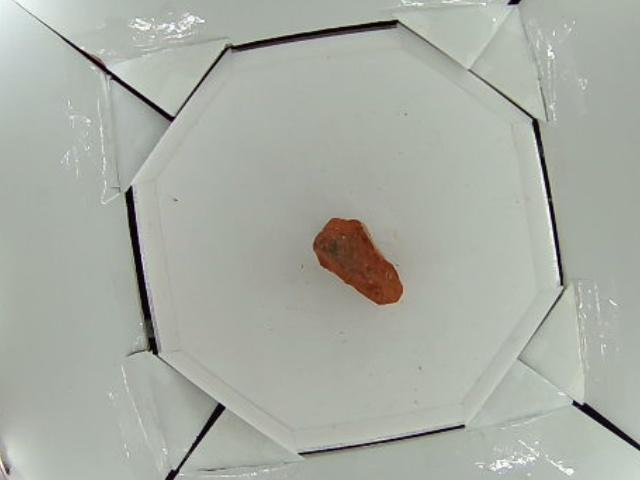Brisk: (317, 220, 399, 306)
